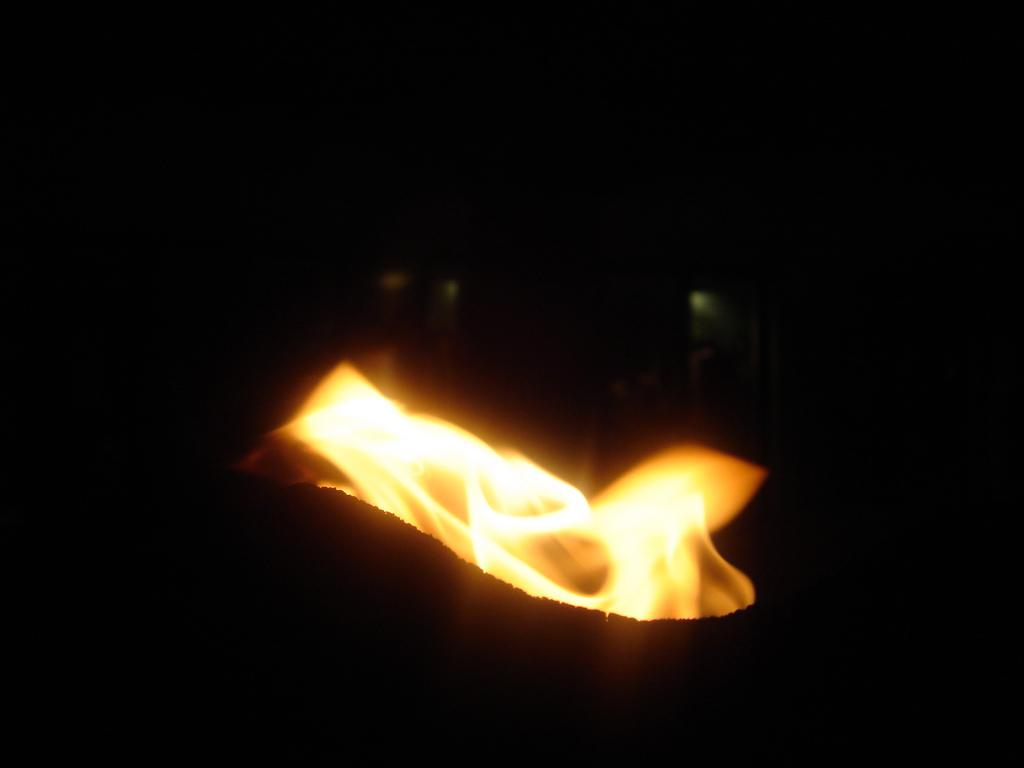fire: (300, 374, 734, 596)
